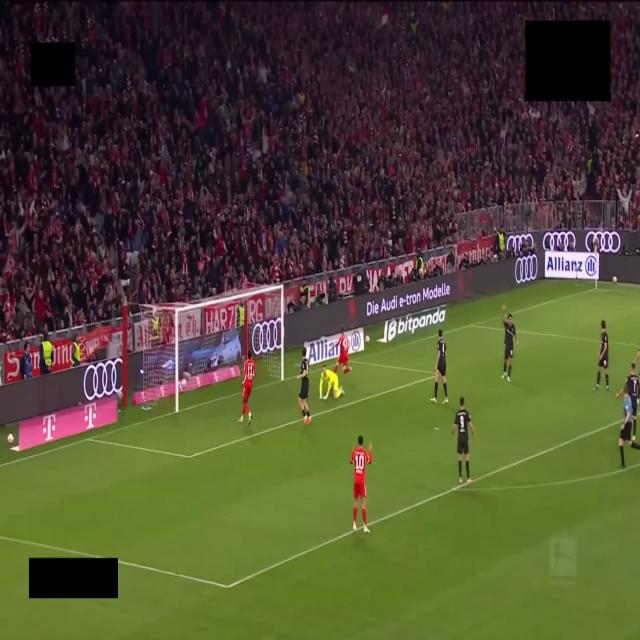player: (350, 436, 372, 533), (452, 398, 475, 483), (616, 363, 639, 441), (431, 329, 448, 403), (239, 351, 255, 423), (502, 305, 517, 381), (298, 348, 311, 424), (596, 320, 609, 391), (320, 366, 343, 399), (334, 328, 350, 374)
referee: (619, 384, 639, 469)
